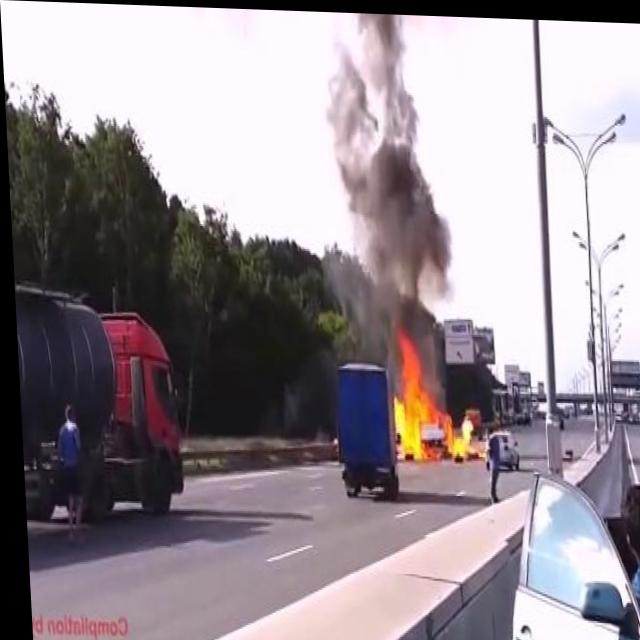fire: (382, 319, 478, 463)
